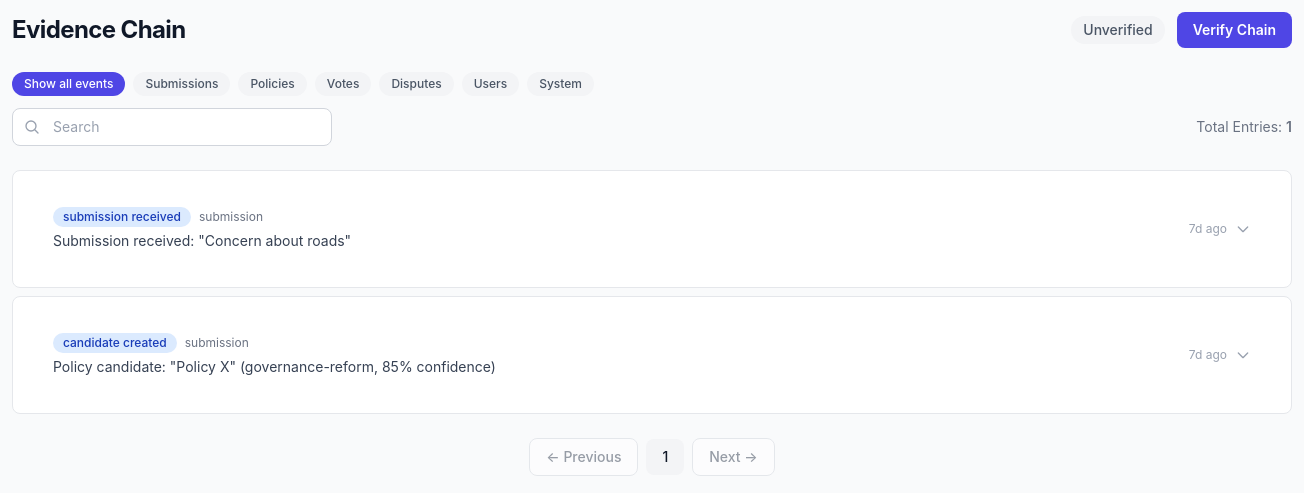
Test case: EvidencePage › shows chain invalid after verify failure
Expected: the text "Submission received: \"Concern about roads\"" is shown, [53, 232, 351, 249]
Click the button "Verify Chain": (1234,30) [1177, 12, 1292, 48]
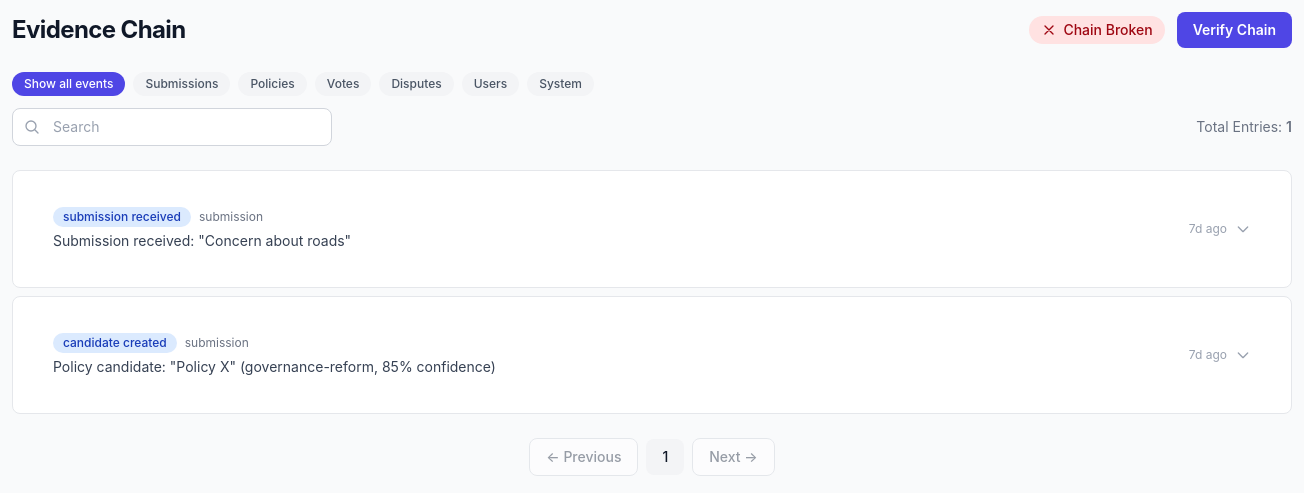
Now the text "Chain Broken" is shown, box [1029, 16, 1165, 44]
